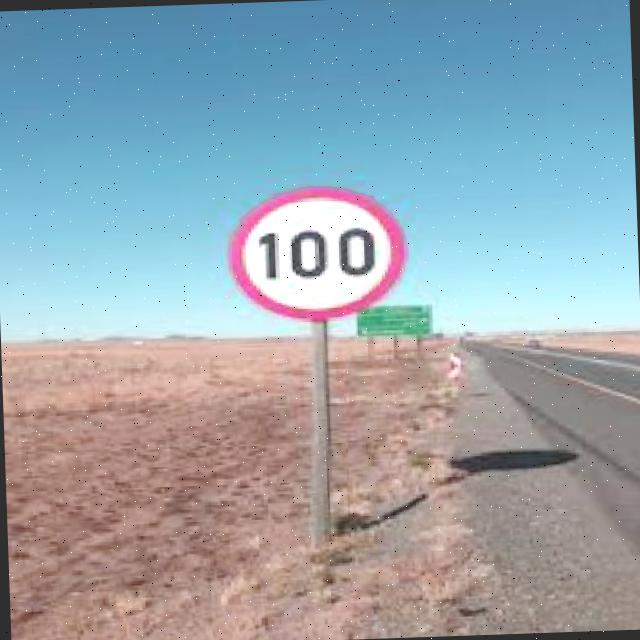Ograniczenie predkosci do 100: (224, 190, 402, 316)
